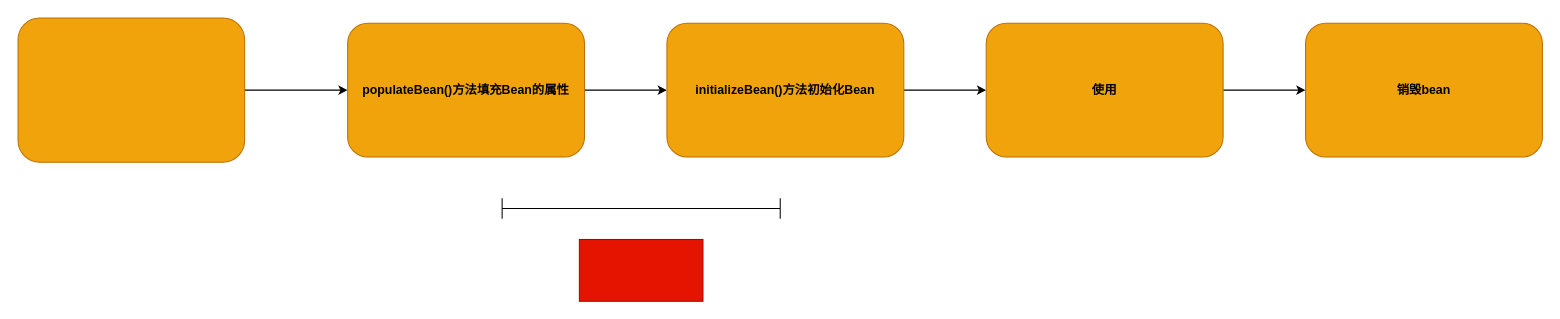
The diagram is 1560 pixels wide and 319 high, and some of its shapes have lost their labels. The shapes that lost their labels are listed below. From the top down, each one's centre as x and y in pixels, then its label:
point (131, 89): 调用构造方法进行实例化
point (640, 269): doCreateBean()
